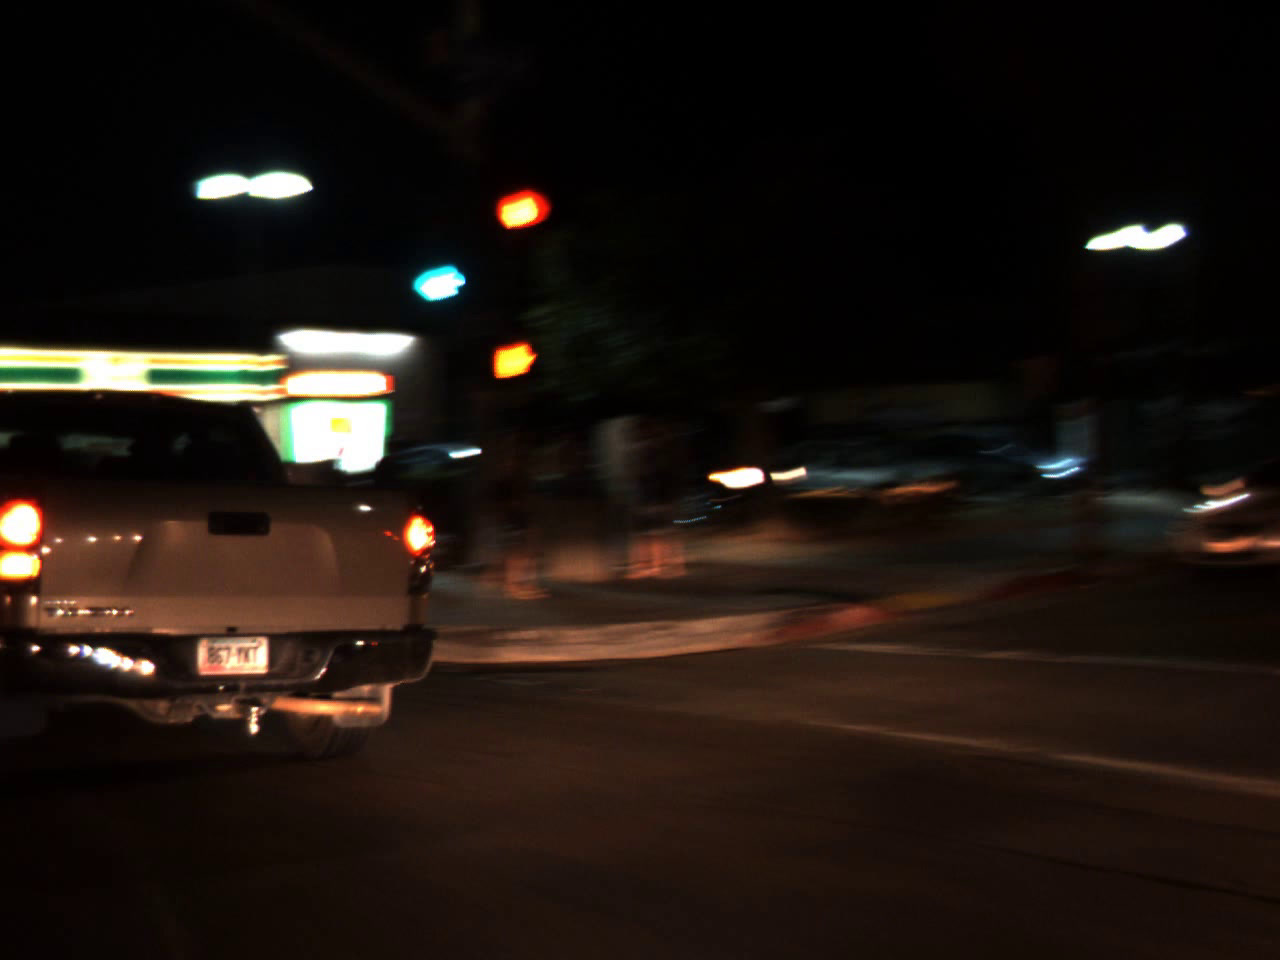go: (412, 235, 475, 310)
